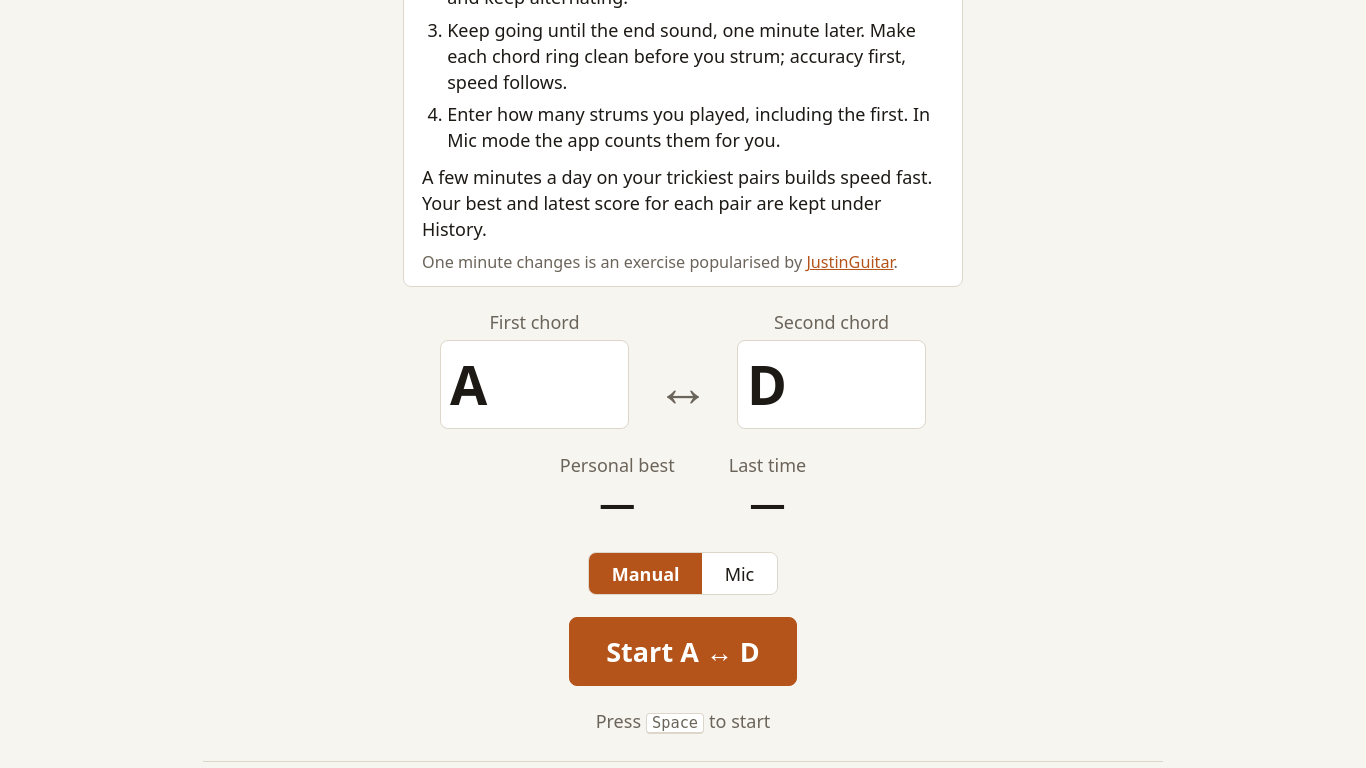
Test: Escape from Privacy returns to 1 minute changes with the typed pair
(page scrolled)
Replace the text in the field labelled "Second chord" with "G" at (832,385), box x1=737 y1=340 x2=926 y2=429
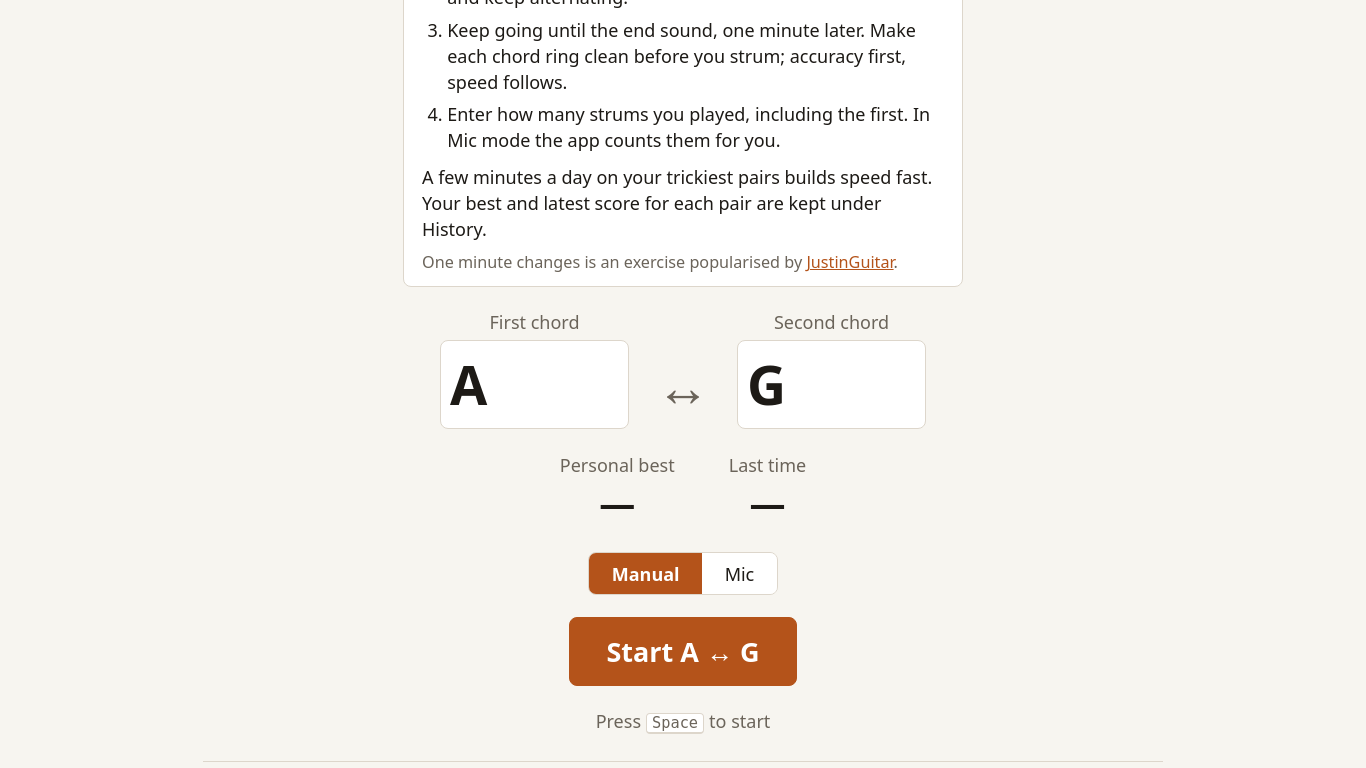
Replace the text in the field labelled "First chord" with "E" at (534,385), box x1=440 y1=340 x2=629 y2=429
(page scrolled)
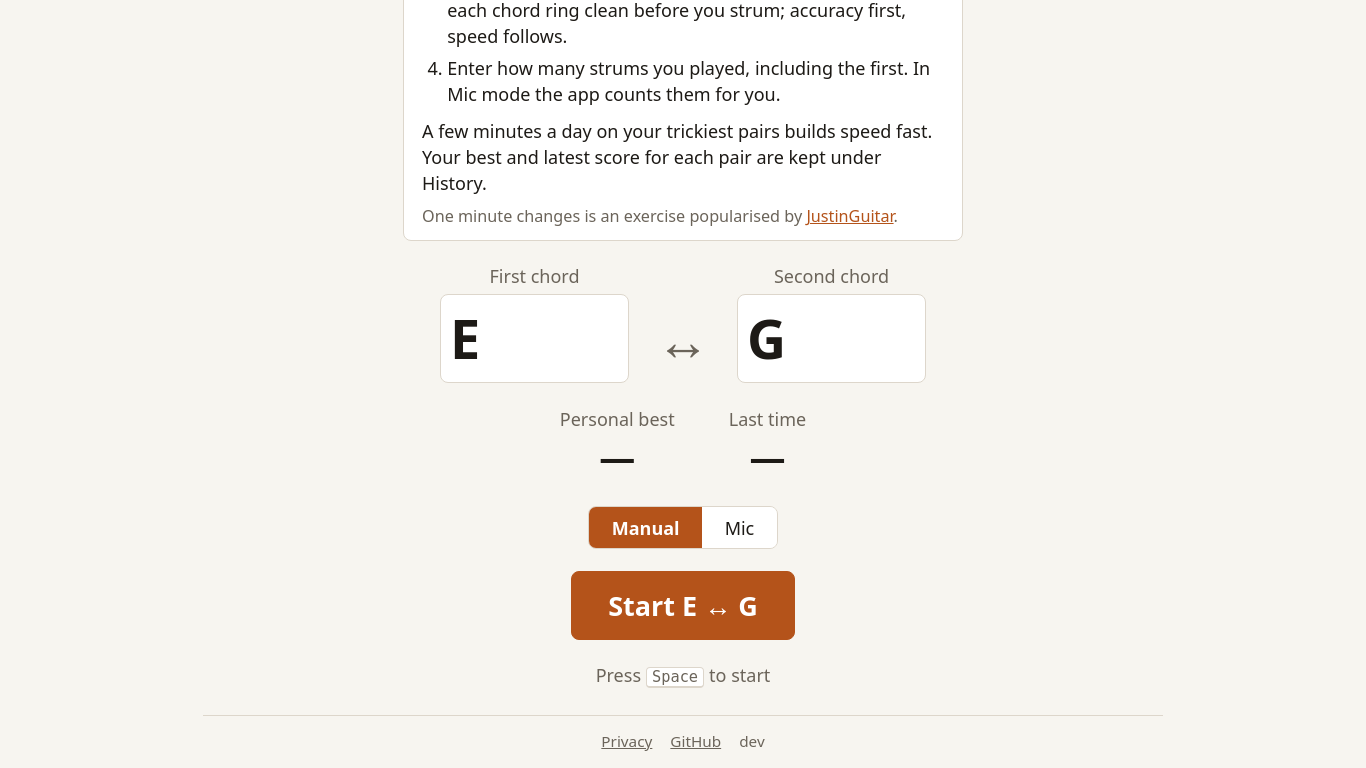
Click the button "Privacy".
click(627, 741)  # box x1=601 y1=730 x2=652 y2=752
(page scrolled)
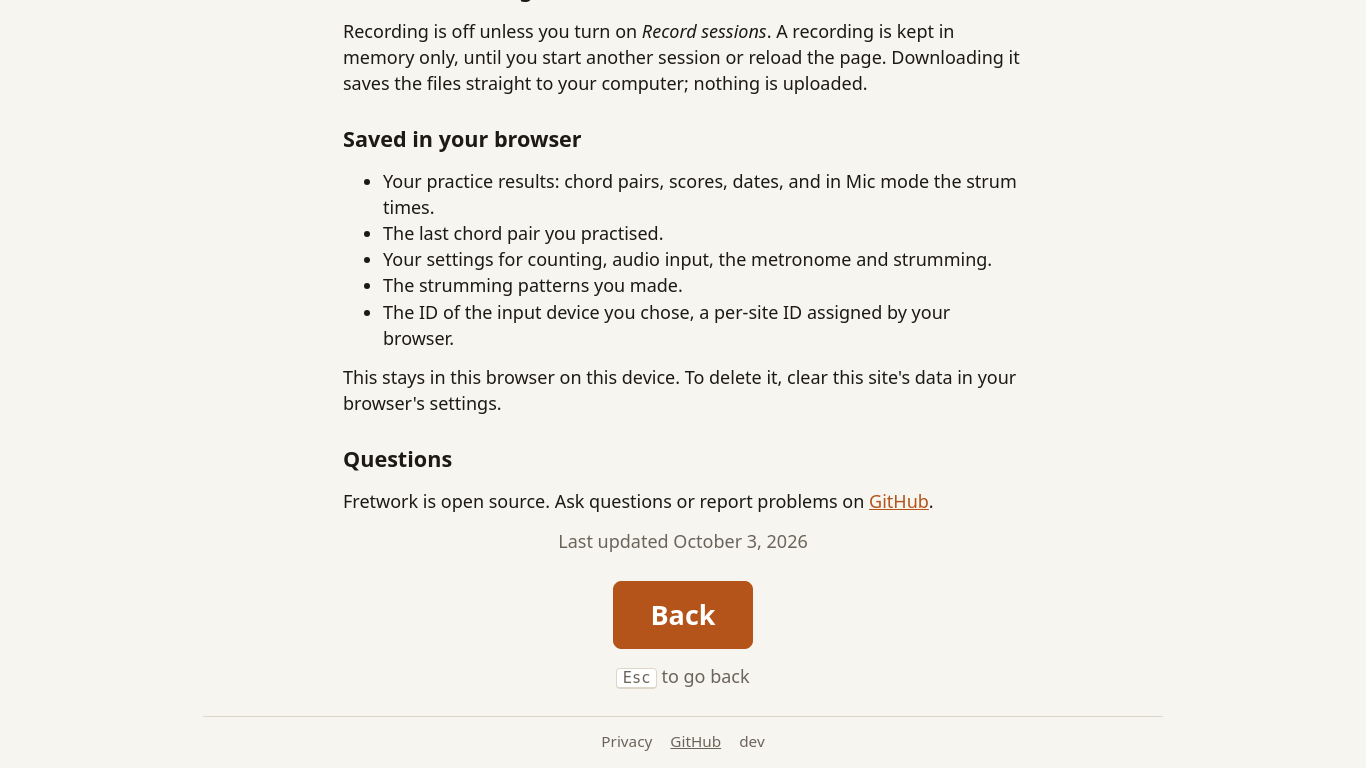
Press Escape
(page scrolled)
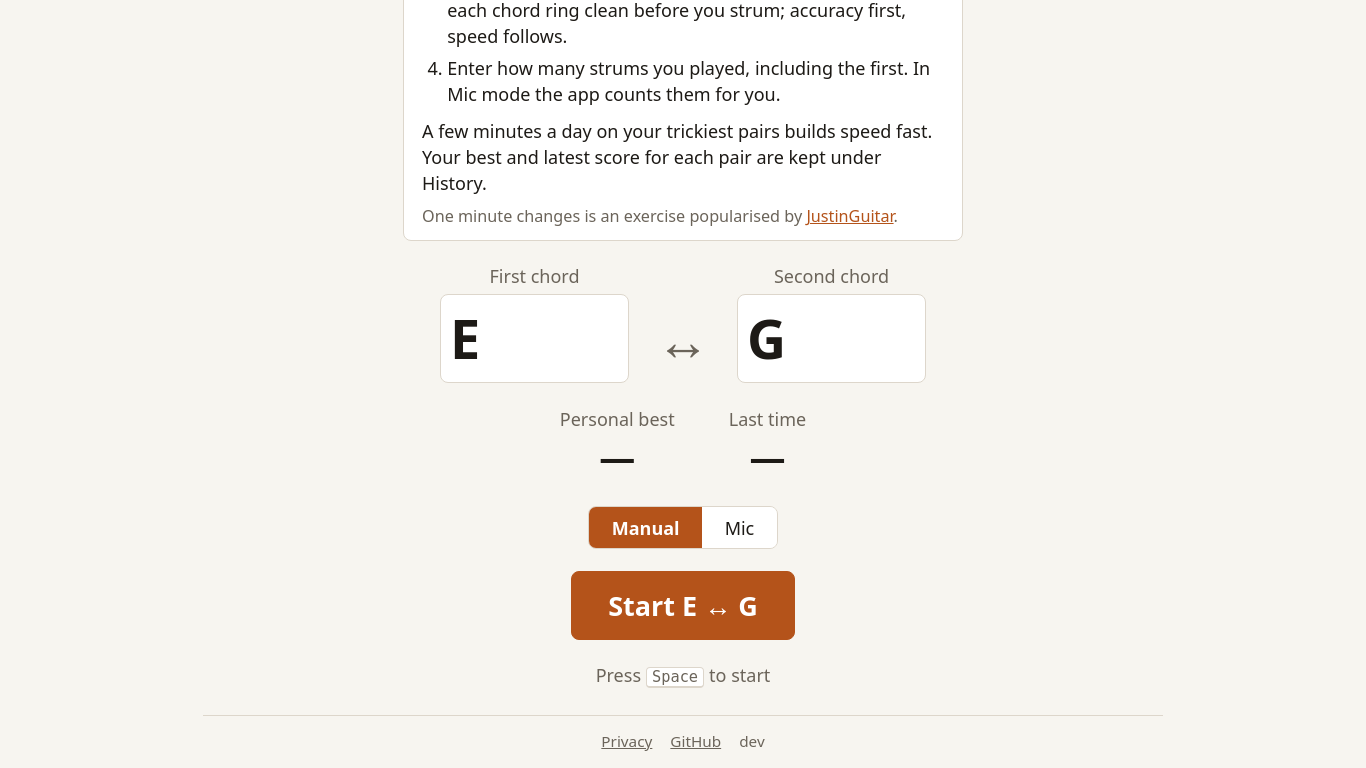
Now the field labelled "First chord" holds "E", box x1=440 y1=294 x2=629 y2=383
Now the field labelled "Second chord" holds "G", box x1=737 y1=294 x2=926 y2=383
